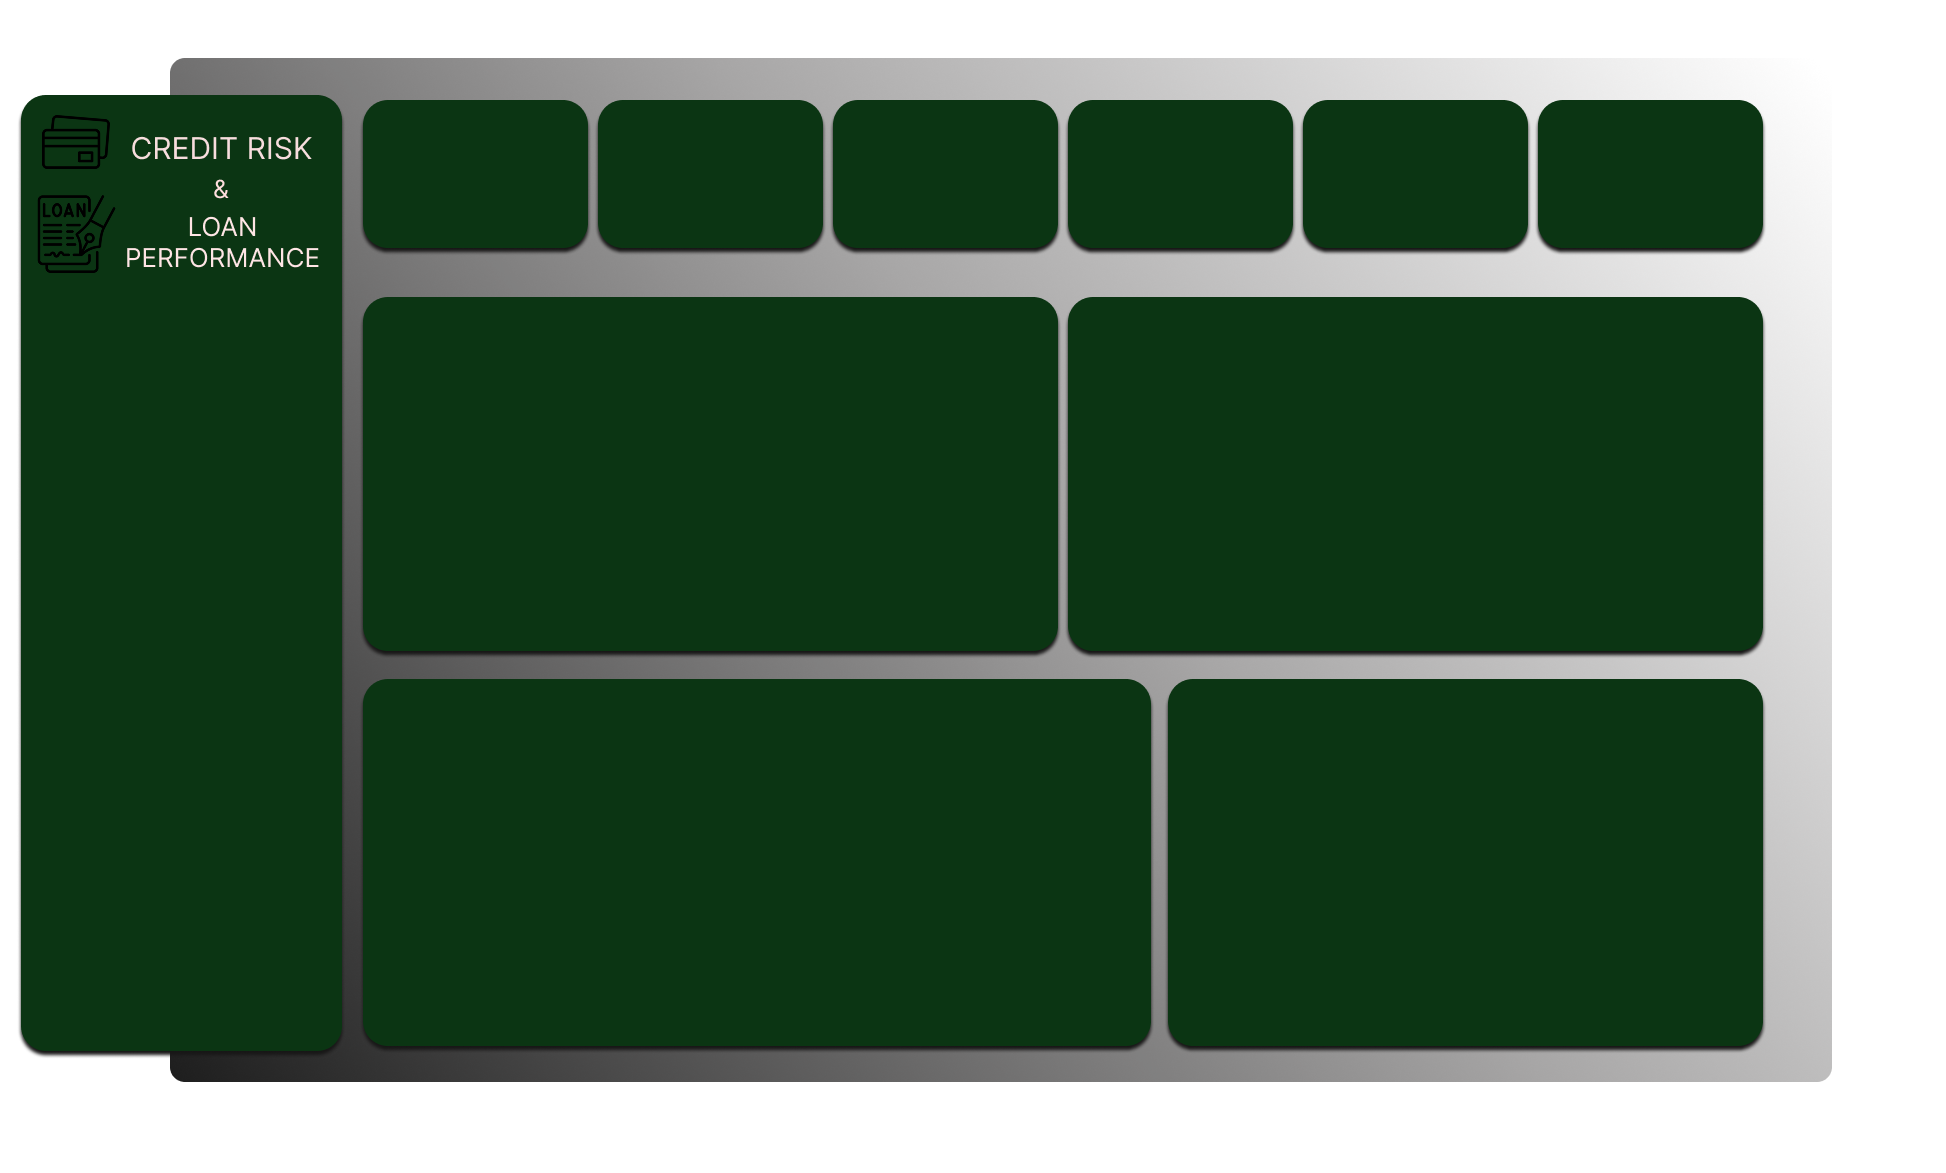

What the dashboard file says about the page in this screenshot:
{"tool":"powerbi","page":{"name":"Page 1","canvas":[1280,720],"ordinal":0},"visuals":[{"type":"card","fields":{"Values":["dw_loan_analysis.Total Customers"]},"box":[240,37.8,146.7,100],"z":0},{"type":"card","fields":{"Values":["dw_loan_analysis.Total Loans"]},"box":[397.8,37.8,143.3,100],"z":1},{"type":"card","fields":{"Values":["Min(dw_loan_analysis.Loan_Status)"]},"box":[548.9,37.8,144.4,100],"z":2},{"type":"card","fields":{"Values":["dw_loan_analysis.Avg Credit Score"]},"box":[701.1,37.8,146.7,100],"z":3},{"type":"card","fields":{"Values":["dw_loan_analysis.Total Loan Amount"]},"box":[861.1,37.8,144.4,100],"z":4},{"type":"card","fields":{"Values":["dw_loan_analysis.Avg Interest Rate"]},"box":[1014.4,37.8,144.4,100],"z":5},{"type":"donutChart","title":"Risk Segmentation","fields":{"Y":["CountNonNull(dw_loan_analysis.Loan_ID)"],"Category":["dw_loan_analysis.Risk_Category"]},"box":[241.1,171.1,452.2,228.9],"z":6},{"type":"hundredPercentStackedBarChart","title":"Default Rate by Age Group","fields":{"Category":["dw_loan_analysis.Customer_Age_Group"],"Y":["CountNonNull(dw_loan_analysis.Loan_ID)"],"Series":["dw_loan_analysis.Loan_Status"]},"box":[705.6,171.1,453.3,228.9],"z":7},{"type":"lineChart","title":"Loan Performance Over Time","fields":{"Category":["dw_loan_analysis.Application_Date.Variation.Date Hierarchy.Year","dw_loan_analysis.Application_Date.Variation.Date Hierarchy.Month"],"Y":["dw_loan_analysis.Total Loan Amount"],"Series":["dw_loan_analysis.Risk_Category"]},"box":[241.1,420,521.1,238.9],"z":8},{"type":"scatterChart","title":"Income vs Loan Amount","fields":{"X":["dw_loan_analysis.Annual_Income"],"Size":["Sum(dw_loan_analysis.Interest_Rate)"],"Y":["Sum(dw_loan_analysis.Loan_Amount)"],"Series":["dw_loan_analysis.Risk_Category"]},"box":[774.4,420,384.4,238.9],"z":9},{"type":"slicer","title":"Year","fields":{"Values":["Calendar.Year"]},"box":[12.2,162.2,215.6,171.1],"z":10},{"type":"slicer","title":"Customer Region","fields":{"Values":["dw_loan_analysis.Region_x"]},"box":[12.2,342.2,215.6,175.6],"z":11},{"type":"slicer","title":"Risk Category","fields":{"Values":["dw_loan_analysis.Risk_Category"]},"box":[12.2,530,215.6,128.9],"z":12}]}

Visuals, with their boxes in screenshot pixels (x1, y1, x2, y2):
card - dw_loan_analysis.Total Customers: BBox(333, 89, 561, 245)
card - dw_loan_analysis.Total Loans: BBox(578, 89, 801, 245)
card - Min(dw_loan_analysis.Loan_Status): BBox(813, 89, 1037, 245)
card - dw_loan_analysis.Avg Credit Score: BBox(1049, 89, 1277, 245)
card - dw_loan_analysis.Total Loan Amount: BBox(1298, 89, 1522, 245)
card - dw_loan_analysis.Avg Interest Rate: BBox(1536, 89, 1761, 245)
"Risk Segmentation" donutChart: BBox(334, 296, 1037, 652)
"Default Rate by Age Group" hundredPercentStackedBarChart: BBox(1056, 296, 1761, 652)
"Loan Performance Over Time" lineChart: BBox(334, 683, 1144, 1055)
"Income vs Loan Amount" scatterChart: BBox(1163, 683, 1761, 1055)
"Year" slicer: BBox(0, 283, 314, 548)
"Customer Region" slicer: BBox(0, 562, 314, 835)
"Risk Category" slicer: BBox(0, 854, 314, 1055)
